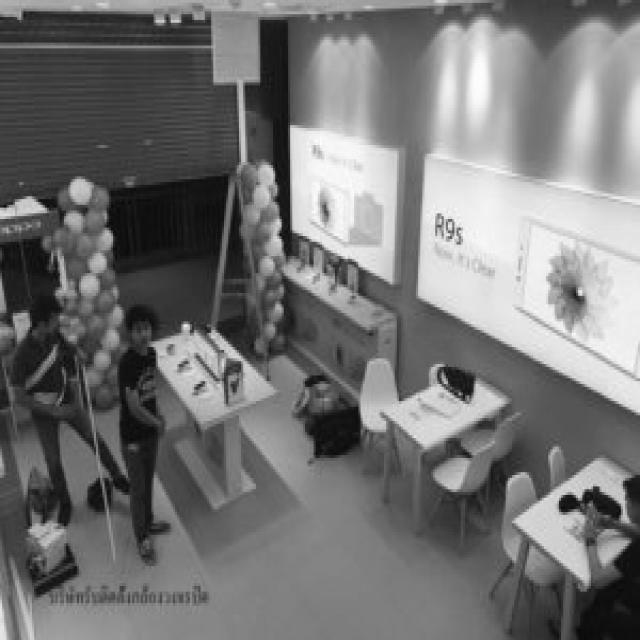table: (131, 308, 285, 446), (276, 222, 400, 362), (518, 449, 636, 588), (379, 377, 510, 458)
